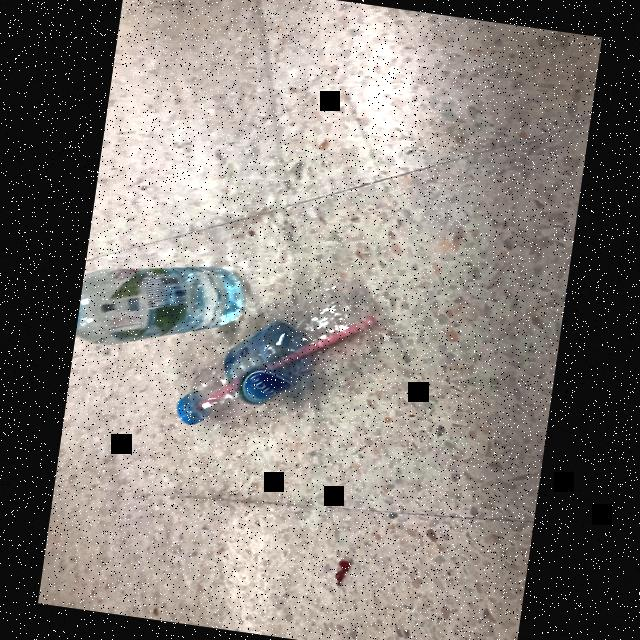plastic_bottle: (176, 256, 392, 449), (74, 248, 248, 364)
plastic_bottle_cap: (175, 392, 208, 424)
straw: (202, 301, 366, 428)
